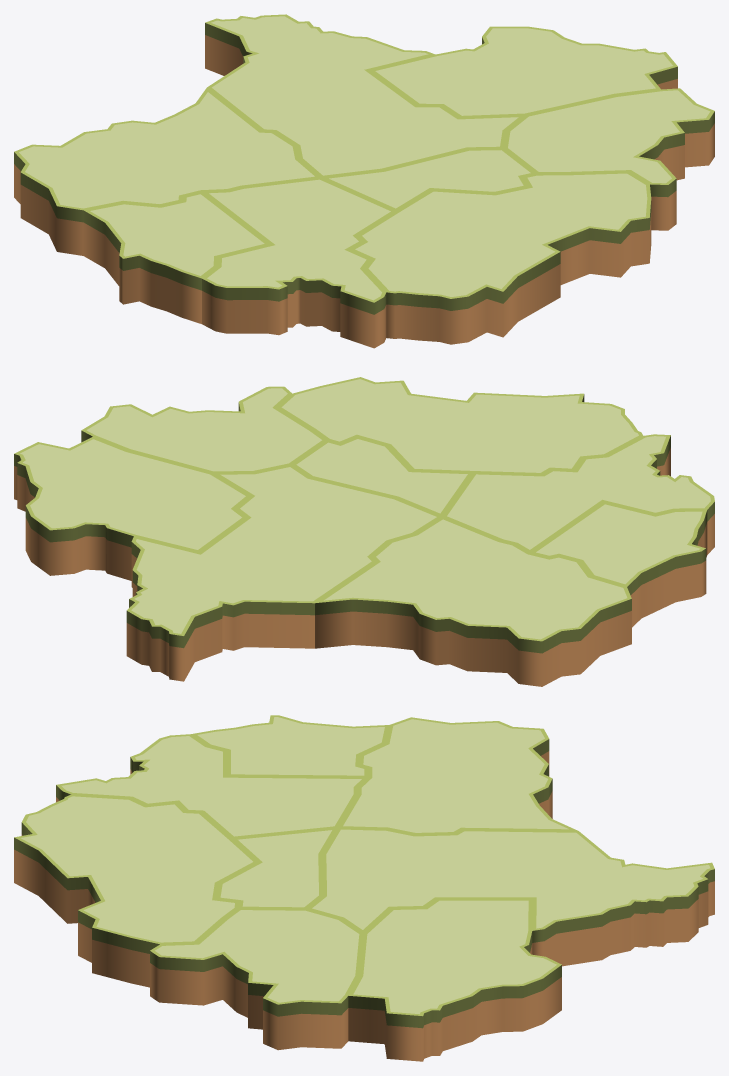
File: Island2.fbx
3 renders of one model, top to bottom at view 1: azimuth 30°, elevation 25°; view 2: azimuth 150°, elevation 25°; view 3: azimuth 270°, elevation 25°, orthographic.
Visible parts, largest first — view 1: Island2.006, Island2.004, Island2.001, Island2.003, Island2.007, Island2.008, Island2.002, Island2.005; view 2: Island2.004, Island2.001, Island2.006, Island2.007, Island2.003, Island2.008, Island2.002, Island2.005; view 3: Island2.004, Island2.006, Island2.007, Island2.008, Island2.001, Island2.003, Island2.002, Island2.005.
Part boxes in pixels (box(x1,y1,x2,y2)): Island2.006: box(350, 171, 651, 344); Island2.004: box(205, 14, 525, 177); Island2.001: box(14, 88, 320, 255); Island2.003: box(202, 177, 395, 348); Island2.007: box(370, 26, 677, 117); Island2.008: box(504, 88, 714, 230); Island2.002: box(83, 192, 269, 323); Island2.005: box(321, 148, 536, 210); Island2.004: box(126, 465, 441, 681); Island2.001: box(315, 517, 631, 686); Island2.006: box(277, 377, 643, 474); Island2.007: box(14, 437, 250, 580); Island2.003: box(442, 434, 714, 554); Island2.008: box(81, 386, 326, 473); Island2.002: box(531, 502, 707, 627); Island2.005: box(292, 437, 472, 516); Island2.004: box(307, 827, 714, 966); Island2.006: box(14, 794, 257, 987); Island2.007: box(348, 899, 561, 1061); Island2.008: box(150, 908, 363, 1050); Island2.001: box(338, 717, 577, 834); Island2.003: box(56, 734, 367, 838); Island2.002: box(191, 715, 389, 777); Island2.005: box(216, 827, 337, 908).
Size of the model in its own units: 354 by 25 by 349.
